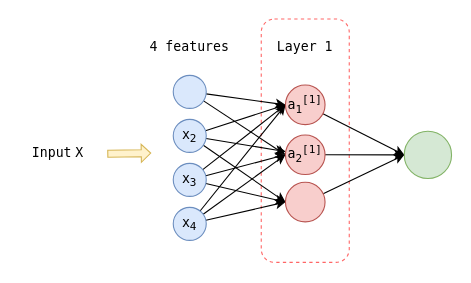
This 471x283 diagram has some shape labels left out. The shapes that lost their labels are listed below. From the top down, each one's centre as x and y in pixels, then its label:
(189,91): x 1
(427,154): a 1 [2]
(304,201): a 3 [1]
